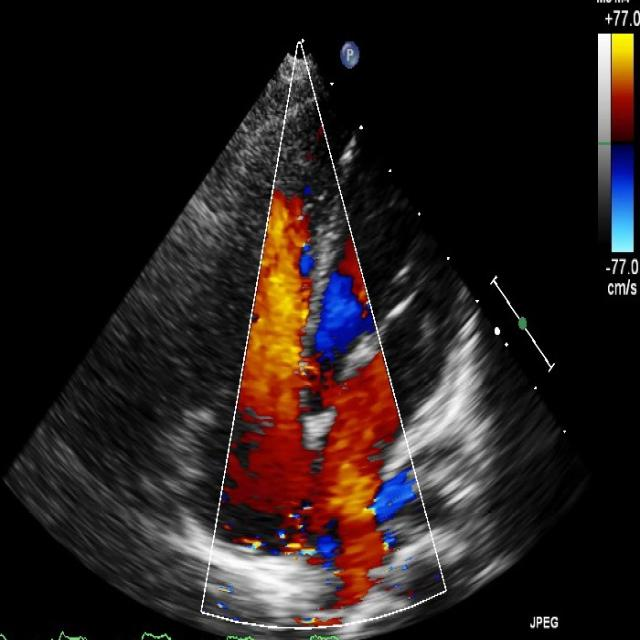ASDType2: (225, 400, 418, 610)
